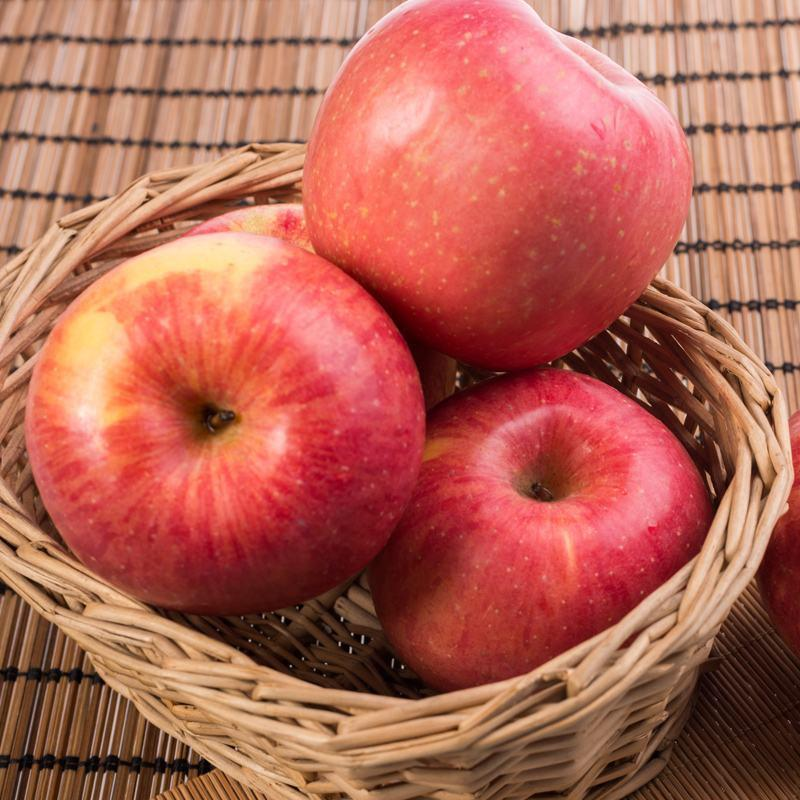apple: (23, 233, 424, 622), (307, 5, 696, 374), (370, 370, 722, 683)
